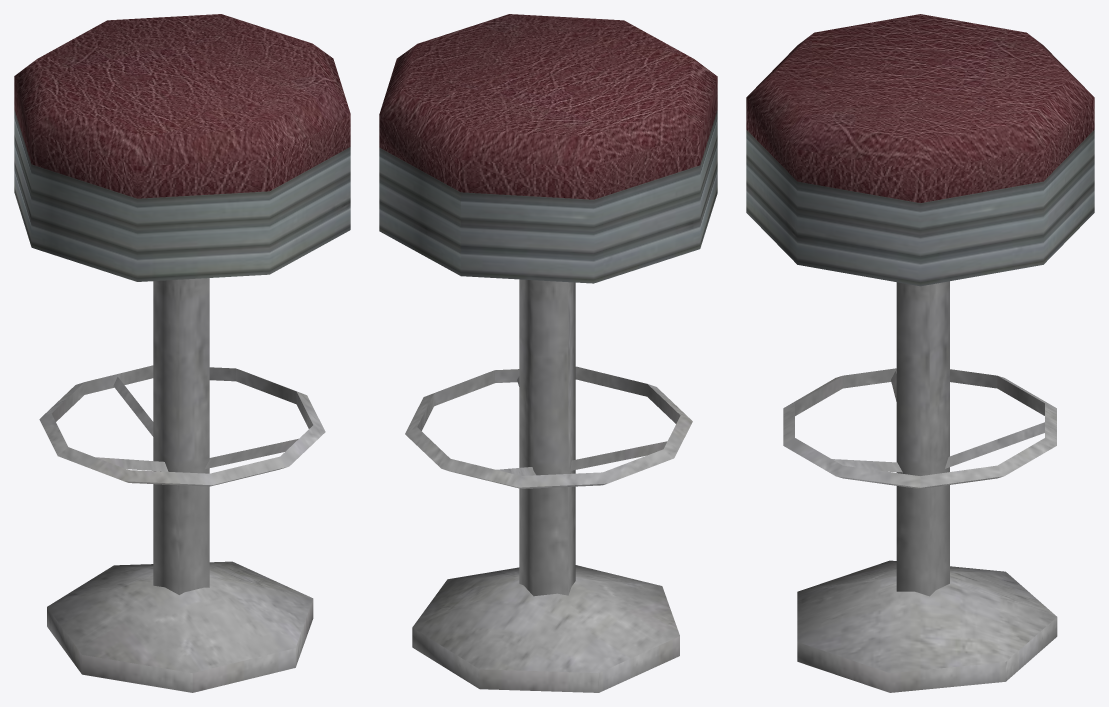
Rendered from Chair.glb.
3 views of the same model, side by side, from view 1: azimuth 30°, elevation 25°; view 2: azimuth 150°, elevation 25°; view 3: azimuth 270°, elevation 25° (orthographic).
Visible parts, largest first — view 1: Chair; view 2: Chair; view 3: Chair.
Boxes of the visible parts, x1,y1,x2,y2 form: Chair: [14, 14, 350, 692]; Chair: [379, 14, 717, 692]; Chair: [746, 14, 1094, 692].
Bounding box in the file's own units: 0.5673 × 1.01 × 0.5673.
Materials: 3 (3 with a texture image).
